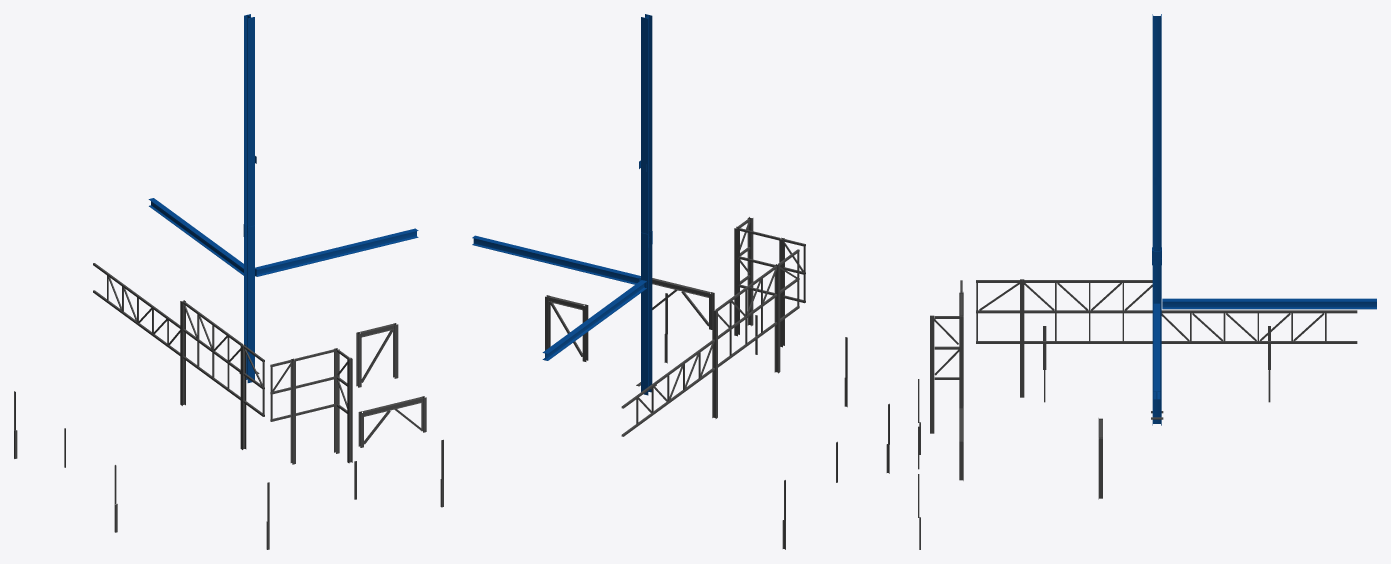
Rendered from GCC-AAV-13220-30.nwd(58).fbx.
3 renders of one model, left to right at view 1: azimuth 30°, elevation 25°; view 2: azimuth 150°, elevation 25°; view 3: azimuth 270°, elevation 25°, orthographic. The views are drawn at different scales.
Visible parts, largest first — view 1: Группа фасетов (×4), PANEL 1 of SBFRAMEWORK /13220-ST-001/CS/KM3/K/ROW_16-17/E-F, PANEL 1 of SBFRAMEWORK /13220-ST-001/CS/KM3/K/ROW_16/F, PANEL 2 of SBFRAMEWORK /13220-ST-001/CS/KM3/K/ROW_16-17/E-F, PANEL 1 of SBFRAMEWORK /13220-ST-001/CS/KM3/K/ROW_16-17/E, PANEL 1 of SBFRAMEWORK /13220-ST-001/CS/KM3/K/ROW_16/E-F; view 2: Группа фасетов (×4), PANEL 1 of SBFRAMEWORK /13220-ST-001/CS/KM3/K/ROW_16-17/E-F, PANEL 1 of SBFRAMEWORK /13220-ST-001/CS/KM3/K/ROW_16-17/E, PANEL 1 of SBFRAMEWORK /13220-ST-001/CS/KM3/K/ROW_16/E-F, PANEL 1 of SBFRAMEWORK /13220-ST-001/CS/KM3/K/ROW_16/F; view 3: Группа фасетов (×4), PANEL 1 of SBFRAMEWORK /13220-ST-001/CS/KM3/B/+27.000, PANEL 1 of SBFRAMEWORK /13220-ST-001/CS/KM3/K/ROW_16-17/E-F, PANEL 1 of SBFRAMEWORK /13220-ST-001/CS/KM3/K/ROW_16/F, PANEL 6 of SBFRAMEWORK /13220-ST-001/CS/KM3/B/+25.000.
Boxes of the visible parts, <box> form: Группа фасетов (×4): <box>148,14,418,382</box>; PANEL 1 of SBFRAMEWORK /13220-ST-001/CS/KM3/K/ROW_16-17/E-F: <box>240,344,246,449</box>; PANEL 1 of SBFRAMEWORK /13220-ST-001/CS/KM3/K/ROW_16/F: <box>347,357,352,463</box>; PANEL 2 of SBFRAMEWORK /13220-ST-001/CS/KM3/K/ROW_16-17/E-F: <box>290,358,295,464</box>; PANEL 1 of SBFRAMEWORK /13220-ST-001/CS/KM3/K/ROW_16-17/E: <box>180,300,185,405</box>; PANEL 1 of SBFRAMEWORK /13220-ST-001/CS/KM3/K/ROW_16/E-F: <box>334,348,339,453</box>; Группа фасетов (×4): <box>472,14,652,395</box>; PANEL 1 of SBFRAMEWORK /13220-ST-001/CS/KM3/K/ROW_16-17/E-F: <box>774,264,780,373</box>; PANEL 1 of SBFRAMEWORK /13220-ST-001/CS/KM3/K/ROW_16-17/E: <box>712,309,717,418</box>; PANEL 1 of SBFRAMEWORK /13220-ST-001/CS/KM3/K/ROW_16/E-F: <box>734,226,739,336</box>; PANEL 1 of SBFRAMEWORK /13220-ST-001/CS/KM3/K/ROW_16/F: <box>747,217,753,326</box>; Группа фасетов (×4): <box>1152,14,1376,425</box>; PANEL 1 of SBFRAMEWORK /13220-ST-001/CS/KM3/B/+27.000: <box>1161,310,1357,313</box>; PANEL 1 of SBFRAMEWORK /13220-ST-001/CS/KM3/K/ROW_16-17/E-F: <box>1020,279,1024,397</box>; PANEL 1 of SBFRAMEWORK /13220-ST-001/CS/KM3/K/ROW_16/F: <box>930,315,934,433</box>; PANEL 6 of SBFRAMEWORK /13220-ST-001/CS/KM3/B/+25.000: <box>1161,341,1357,343</box>.
Size of the model in its own units: 797 by 938 by 803.
